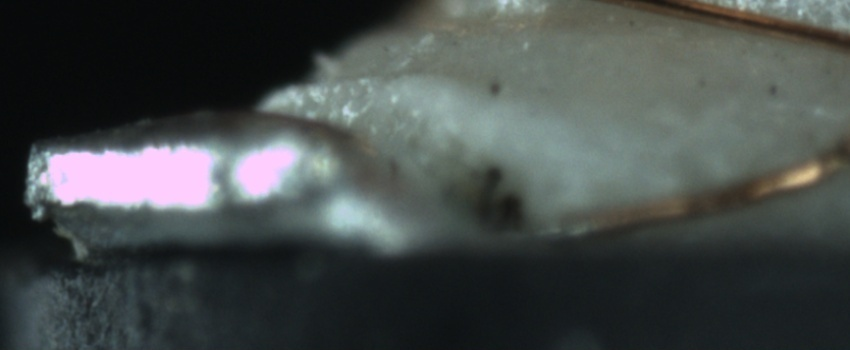TS: (474, 221, 598, 253)
